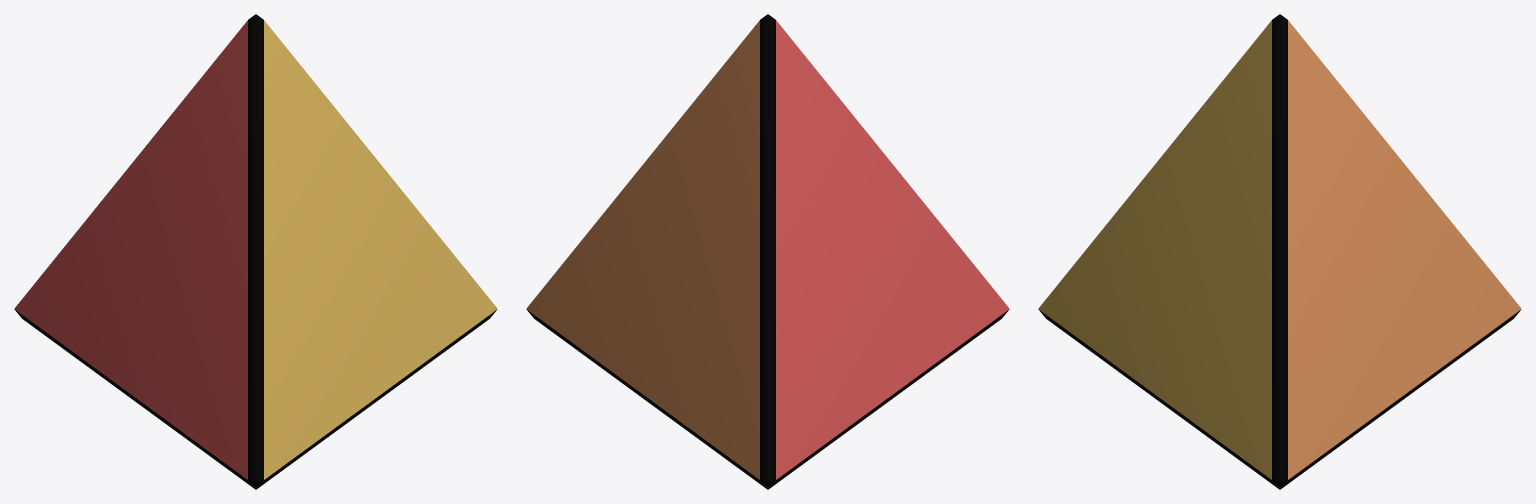
3 views of the same model, side by side, from view 1: azimuth 30°, elevation 25°; view 2: azimuth 150°, elevation 25°; view 3: azimuth 270°, elevation 25° (orthographic).
Visible parts, largest first — view 1: D4; view 2: D4; view 3: D4.
Boxes of the visible parts, x1,y1,x2,y2 form: D4: [14, 14, 497, 489]; D4: [526, 14, 1009, 489]; D4: [1038, 14, 1521, 489].
Size of the model in its own units: 77.02 by 72.62 by 88.94.
